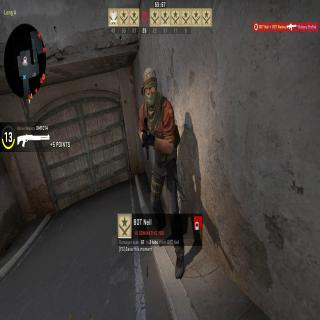T-Body: (137, 61, 189, 281)
T-Head: (142, 68, 158, 107)
